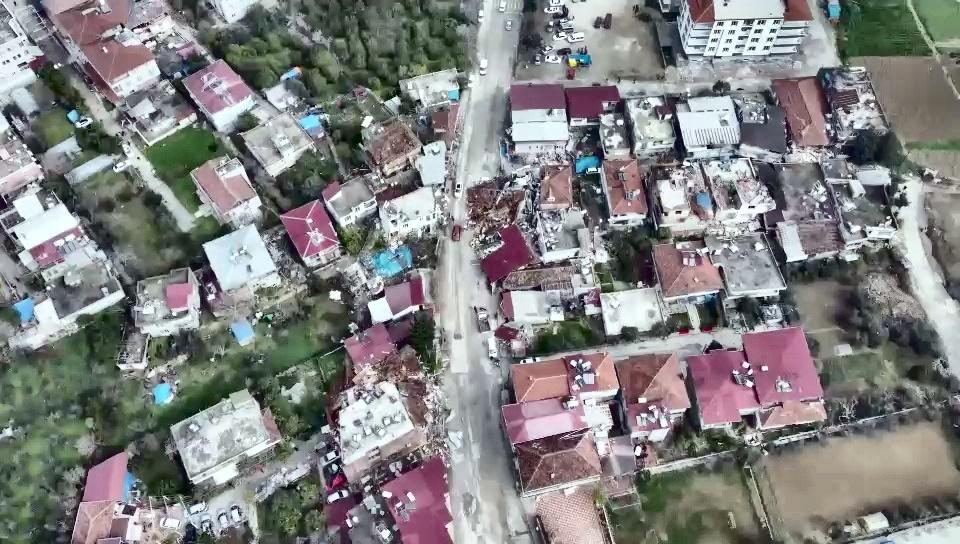kapali: (441, 159, 500, 306)
